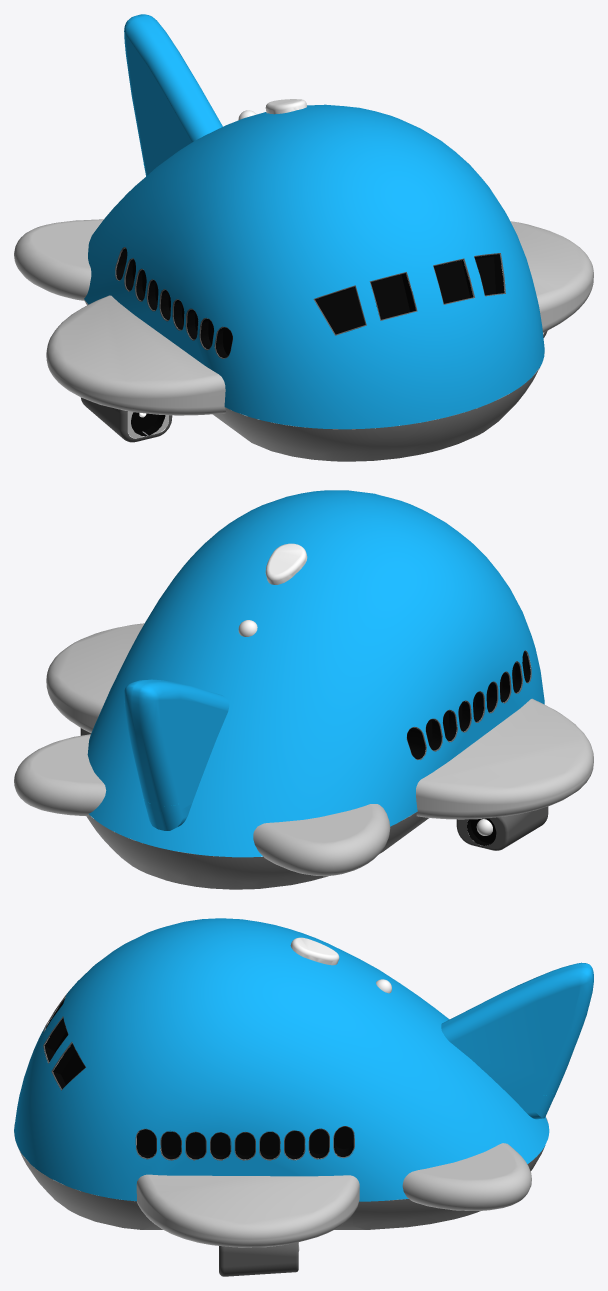
File: alvireya-plane.glb
3 renders of one model, top to bottom at view 1: azimuth 30°, elevation 25°; view 2: azimuth 150°, elevation 25°; view 3: azimuth 270°, elevation 25°, orthographic. The views are drawn at different scales.
Size of the model in its own units: 0.5938 by 0.294 by 0.6177.
